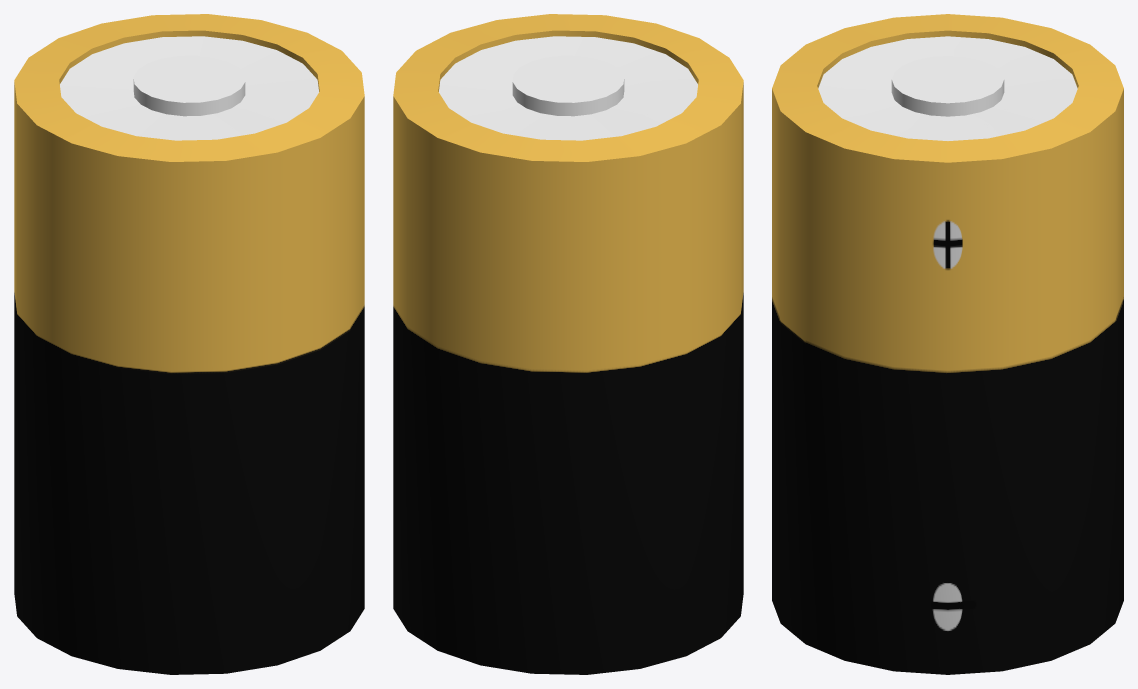
File: battery.fbx
The picture shows the model from 3 angles, left to right: view 1: azimuth 30°, elevation 25°; view 2: azimuth 150°, elevation 25°; view 3: azimuth 270°, elevation 25°; orthographic projection.
Parts seen in each view (by area): view 1: pCylinder1; view 2: pCylinder1; view 3: pCylinder1.
Part boxes in pixels (x1,y1,x2,y2): pCylinder1: (14,14,364,674); pCylinder1: (393,14,743,674); pCylinder1: (772,14,1123,674).
Size of the model in its own units: 0.02 by 0.0328 by 0.02.
2 materials, 1 textured.
